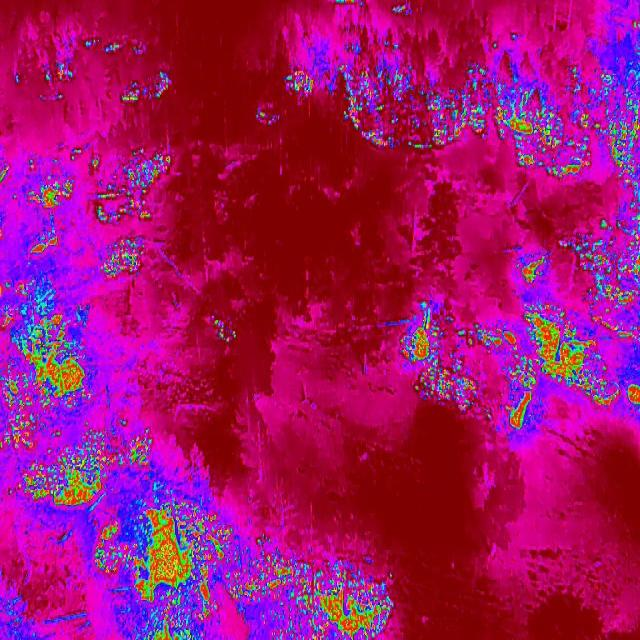fire: (0, 147, 169, 279), (222, 532, 395, 640), (10, 417, 152, 515), (0, 280, 98, 418), (338, 64, 486, 154), (490, 80, 602, 182), (523, 300, 622, 408), (39, 32, 172, 112), (129, 501, 224, 604), (412, 356, 484, 420), (603, 75, 640, 193), (594, 271, 640, 341), (502, 352, 540, 431), (451, 321, 523, 359), (125, 609, 210, 640), (554, 229, 612, 271), (88, 520, 128, 580), (401, 318, 437, 367), (620, 206, 640, 292), (522, 246, 556, 293), (0, 596, 27, 640), (283, 68, 315, 102), (254, 103, 282, 127), (624, 376, 640, 412), (208, 314, 226, 334)
